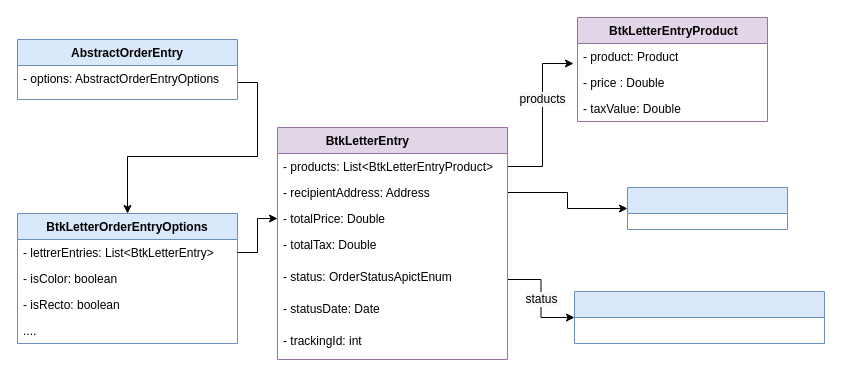
This 842x380 diagram has some shape labels left out. Here are the shapes that lost their labels. From the top down, the centre of each, then its label:
the point at 707,208: Address
the point at 699,317: OrderStatusApictEnum
